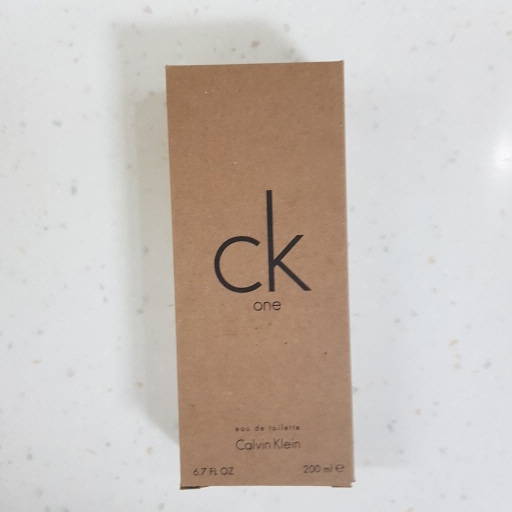Paper_0: (158, 55, 363, 496)
